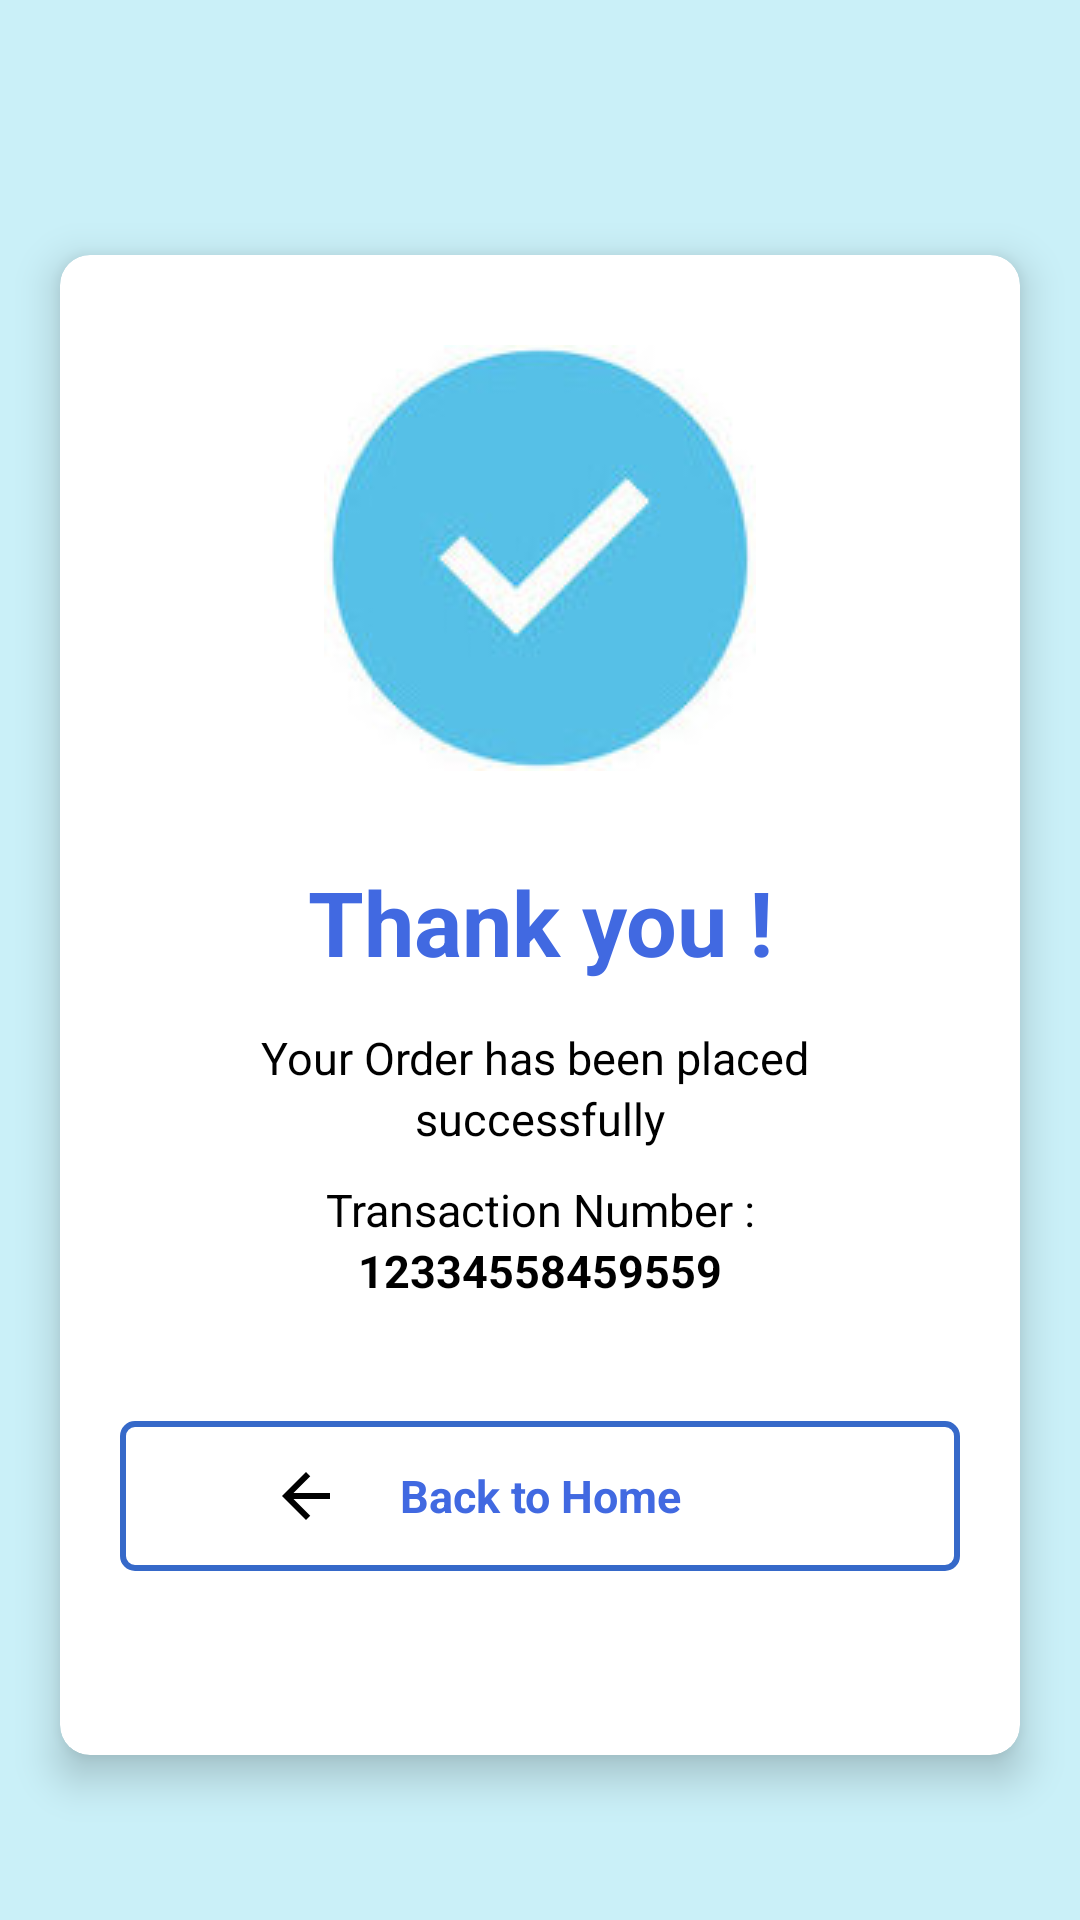

Icons on this 1080×1920 Android screen, each with its box as (x1, y1, x2, y2):
arrow back: (282, 1472, 330, 1520)
